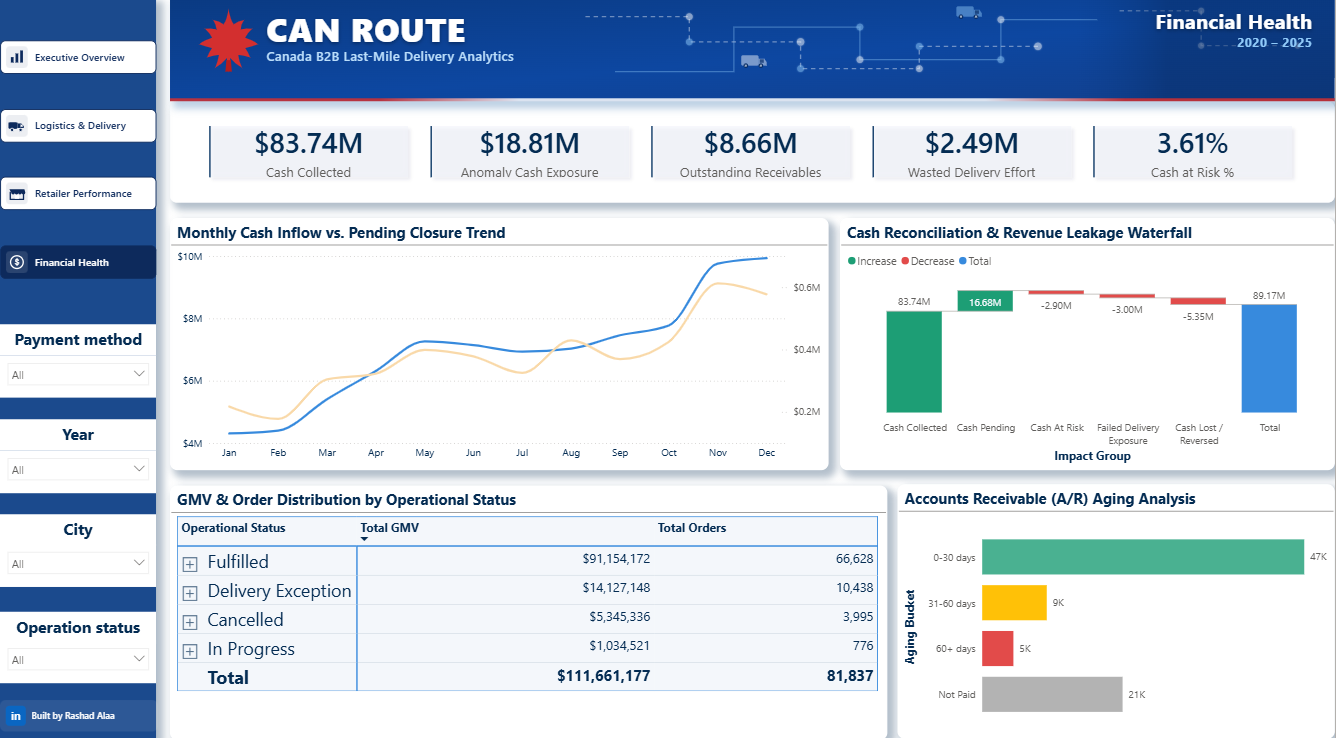

The dashboard page shown, as its layout file describes it:
{"tool":"powerbi","page":{"name":"Financial Health","canvas":[1800,1000],"ordinal":3},"visuals":[{"type":"cardVisual","fields":{"Data":["_Measures Table.Cash Collected","_Measures Table.Anomaly Cash Pending","_Measures Table.Outstanding Receivables","_Measures Table.Wasted Delivery Effort","_Measures Table.Cash at Risk %"]},"box":[229.6,139.1,1570,155.8],"z":0},{"type":"lineChart","title":"Monthly Cash Inflow vs. Pending Closure Trend","fields":{"Category":["dim_date.year Hierarchy.year","dim_date._date.Month__Name"],"Y":["_Measures Table.Cash Collected"],"Y2":["_Measures Table.Pending Closure Cash"]},"box":[229.6,310,888.1,326.7],"z":1000},{"type":"image","box":[229.6,0,1570,139.1],"z":2000},{"type":"shape","box":[0,0,210.7,1000.2],"z":3000},{"type":"slicer","fields":{"Values":["dim_areas.city"]},"box":[0.4,727.2,210.7,57.3],"z":4000},{"type":"textbox","box":[0.4,686.5,210.7,42.1],"z":5000},{"type":"textbox","box":[-0.3,558.9,210.7,42.1],"z":6000},{"type":"slicer","fields":{"Values":["fact_orders.payment_method"]},"box":[1.1,464.1,210.7,57],"z":7000},{"type":"textbox","box":[1.1,422.5,210.7,42.1],"z":8000},{"type":"waterfallChart","title":"Cash Reconciliation & Revenue Leakage Waterfall","fields":{"Category":["fact_orders.Impact Group"],"Y":["_Measures Table.Waterfall Impact Value"]},"box":[1132.7,310,666.9,328.4],"z":9000},{"type":"pivotTable","title":"GMV & Order Distribution by Operational Status","fields":{"Rows":["fact_orders.Operational Status","fact_orders.order_status","fact_orders.delivery_status","fact_orders.payment_status"],"Values":["_Measures Table.Total GMV","_Measures Table.Total Orders"]},"box":[229.6,656.8,966.8,343.5],"z":10000},{"type":"clusteredBarChart","title":"Accounts Receivable (A/R) Aging Analysis","fields":{"Category":["fact_orders.Aging Bucket"],"Y":["_Measures Table.Total Orders"]},"box":[1209.8,655.2,589.8,343.5],"z":11000},{"type":"image","box":[0,33.5,211.1,92.2],"z":12000},{"type":"image","box":[0,125.7,211.1,92.2],"z":13000},{"type":"image","box":[0,217.8,211.1,92.2],"z":14000},{"type":"image","box":[0,310,211.1,92.2],"z":15000},{"type":"image","box":[0,935,212.8,65.3],"z":16000},{"type":"slicer","fields":{"Values":["fact_orders.Operational Status"]},"box":[-0.3,856.4,210.7,57.3],"z":17000},{"type":"textbox","box":[-0.3,818.4,210.7,42.1],"z":18000},{"type":"slicer","fields":{"Values":["dim_date.year"]},"box":[-0.3,601.2,210.7,57.3],"z":19000}]}

Visuals, with their boxes on the page's 1800x1000 design canvas (x1, y1, x2, y2). These are canvas units, not pixel positions in the 1340x738 screenshot, which may show the page scaled, cropped or inside an application window:
cardVisual - _Measures Table.Cash Collected x _Measures Table.Anomaly Cash Pending: (230, 139, 1800, 295)
"Monthly Cash Inflow vs. Pending Closure Trend" lineChart: (230, 310, 1118, 637)
image: (230, 0, 1800, 139)
shape: (0, 0, 211, 1000)
slicer - dim_areas.city: (0, 727, 211, 784)
textbox: (0, 686, 211, 729)
textbox: (0, 559, 210, 601)
slicer - fact_orders.payment_method: (1, 464, 212, 521)
textbox: (1, 422, 212, 465)
"Cash Reconciliation & Revenue Leakage Waterfall" waterfallChart: (1133, 310, 1800, 638)
"GMV & Order Distribution by Operational Status" pivotTable: (230, 657, 1196, 1000)
"Accounts Receivable (A/R) Aging Analysis" clusteredBarChart: (1210, 655, 1800, 999)
image: (0, 34, 211, 126)
image: (0, 126, 211, 218)
image: (0, 218, 211, 310)
image: (0, 310, 211, 402)
image: (0, 935, 213, 1000)
slicer - fact_orders.Operational Status: (0, 856, 210, 914)
textbox: (0, 818, 210, 860)
slicer - dim_date.year: (0, 601, 210, 658)
